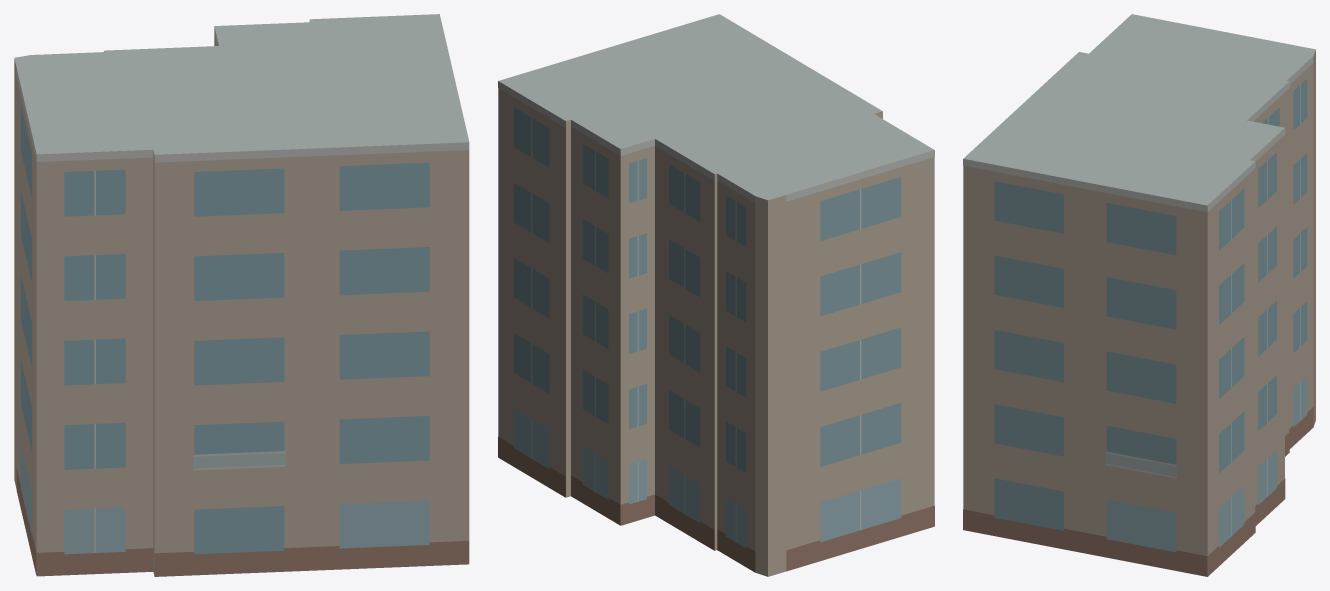
Rendered from survey-upis-32616634.glb.
3 renders of one model, left to right at view 1: azimuth 30°, elevation 25°; view 2: azimuth 150°, elevation 25°; view 3: azimuth 270°, elevation 25°, orthographic. The views are drawn at different scales.
Visible parts, largest first — view 1: survey-upis-32616634.tmp; view 2: survey-upis-32616634.tmp; view 3: survey-upis-32616634.tmp.
Part boxes in pixels (x1,y1,x2,y2): survey-upis-32616634.tmp: (14, 14, 469, 576); survey-upis-32616634.tmp: (498, 14, 934, 576); survey-upis-32616634.tmp: (963, 14, 1315, 576).
Size of the model in its own units: 14.73 by 13.3 by 11.46.
